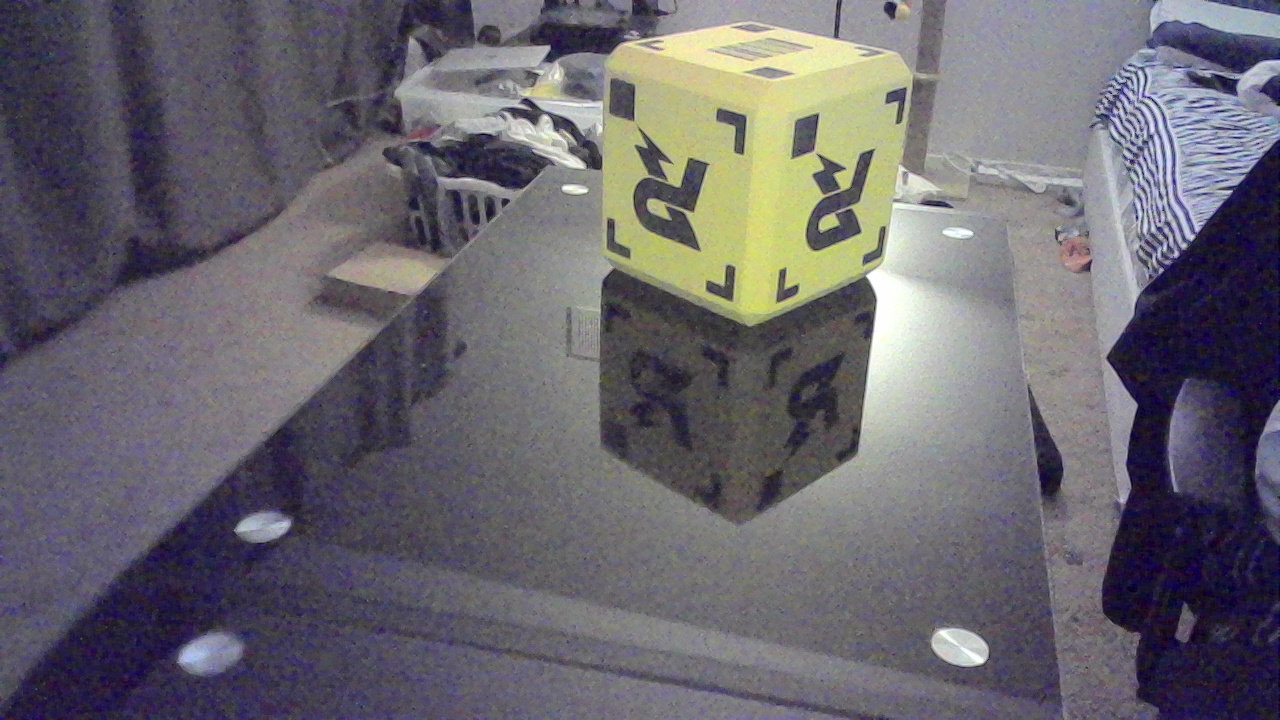Barcode: (724, 41, 821, 71)
R: (639, 134, 719, 259), (815, 151, 881, 260)
